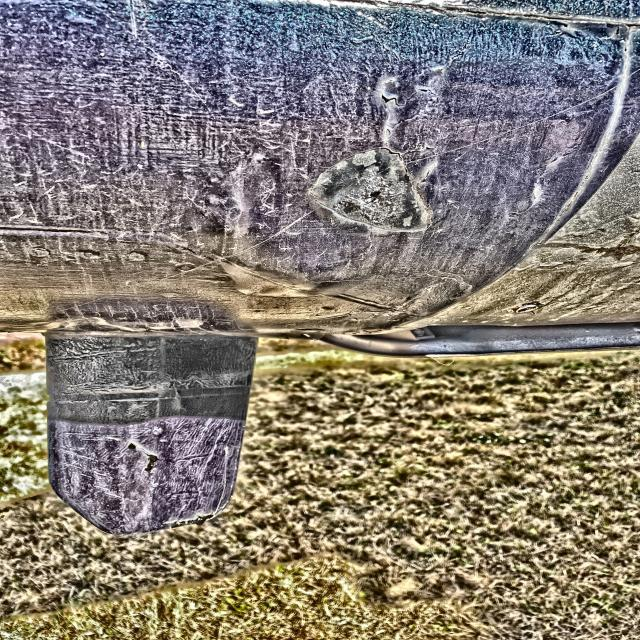crack: (379, 87, 457, 112)
dent: (303, 140, 465, 235)
